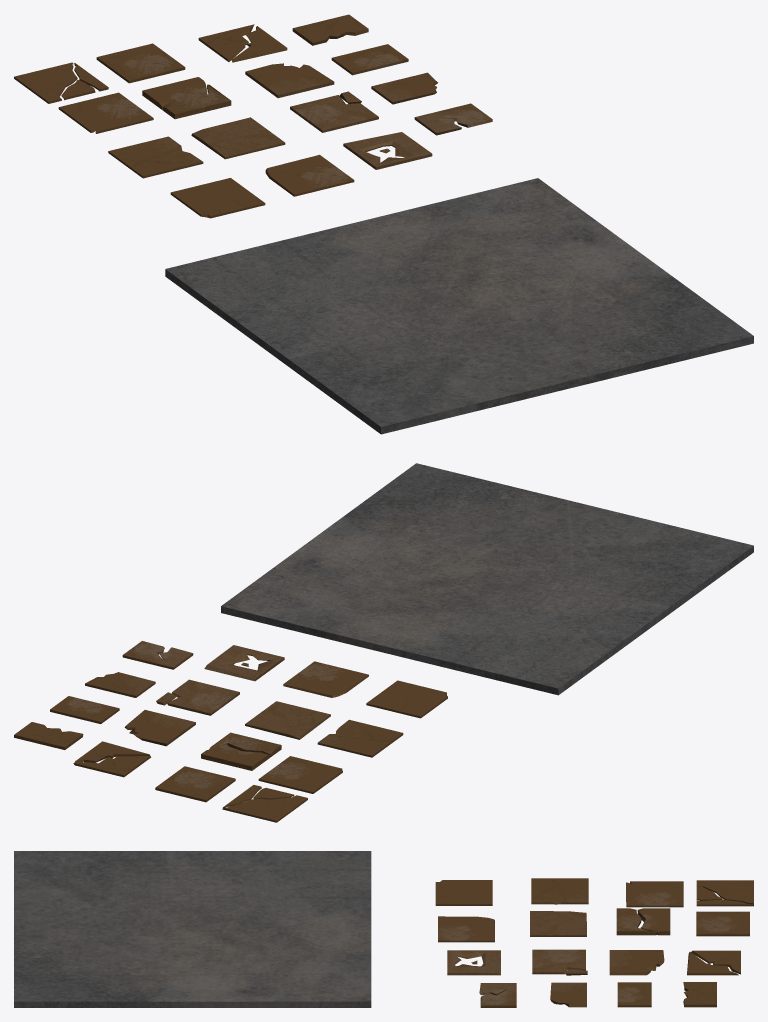
Rendered from пол.fbx.
3 views of the same model, one above another, from view 1: azimuth 30°, elevation 25°; view 2: azimuth 150°, elevation 25°; view 3: azimuth 270°, elevation 25° (orthographic). The views are drawn at different scales.
Visible parts, largest first — view 1: Куб.019, Куб.012, Куб.003, Куб.015, Куб.013, Куб.016, Куб.017, Куб.014, Куб.002, Куб.007, Куб.010, Куб.008 (+5 smaller); view 2: Куб.019, Куб.015, Куб.012, Куб.003, Куб.017, Куб.014, Куб.016, Куб.013, Куб.002, Куб.007, Куб.010, Куб.008 (+5 smaller); view 3: Куб.019, Куб.016, Куб.017, Куб.012, Куб.014, Куб.003, Куб.013, Куб.015, Куб.002, Куб.007, Куб.010, Куб.008 (+5 smaller).
Boxes of the visible parts, box(x1,y1,x2,y2) form: Куб.019: box(165, 178, 753, 434); Куб.012: box(58, 92, 153, 133); Куб.003: box(142, 77, 231, 119); Куб.015: box(191, 117, 285, 159); Куб.013: box(170, 178, 265, 218); Куб.016: box(108, 136, 203, 178); Куб.017: box(14, 62, 108, 103); Куб.014: box(265, 154, 354, 196); Куб.002: box(290, 91, 378, 132); Куб.007: box(96, 43, 185, 83); Куб.010: box(198, 24, 287, 62); Куб.008: box(245, 63, 334, 98); Куб.019: box(221, 463, 753, 695); Куб.015: box(245, 701, 330, 739); Куб.012: box(258, 756, 342, 793); Куб.003: box(201, 732, 281, 770); Куб.017: box(222, 785, 307, 822); Куб.014: box(283, 661, 368, 697); Куб.016: box(317, 719, 403, 757); Куб.013: box(366, 680, 447, 718); Куб.002: box(156, 679, 239, 715); Куб.007: box(155, 766, 235, 802); Куб.010: box(73, 741, 151, 777); Куб.008: box(124, 710, 195, 746); Куб.019: box(14, 851, 371, 1007); Куб.016: box(531, 878, 588, 904); Куб.017: box(696, 880, 753, 906); Куб.012: box(626, 881, 683, 907); Куб.014: box(438, 916, 494, 942); Куб.003: box(616, 908, 670, 935); Куб.013: box(435, 880, 492, 905); Куб.015: box(530, 911, 586, 936); Куб.002: box(532, 949, 587, 975); Куб.007: box(696, 911, 749, 936); Куб.010: box(687, 950, 740, 975); Куб.008: box(609, 950, 664, 975).
Size of the model in its own units: 316 by 11.67 by 622.
1 material, 1 textured.
